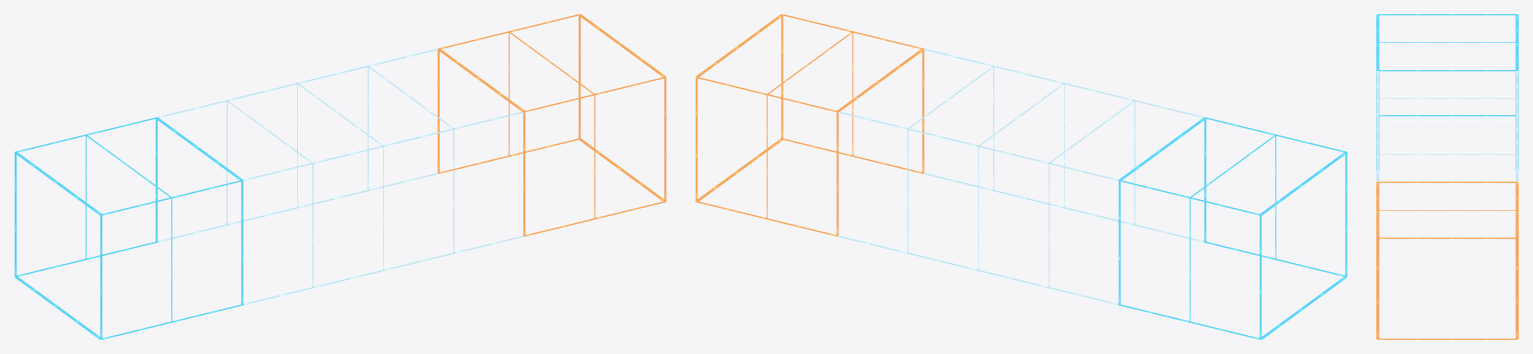
File: A04_court_pulse.glb
3 renders of one model, left to right at view 1: azimuth 30°, elevation 25°; view 2: azimuth 150°, elevation 25°; view 3: azimuth 270°, elevation 25°, orthographic. The views are drawn at different scales.
Parts seen in each view (by area): view 1: court_pulse; view 2: court_pulse; view 3: court_pulse.
Boxes of the visible parts, <box> form: court_pulse: <box>14,14,666,339</box>; court_pulse: <box>695,14,1347,339</box>; court_pulse: <box>1376,14,1518,339</box>.
Bounding box in the file's own units: 19.11 × 4 × 5.11.
Materials: 3 (3 with a texture image).
